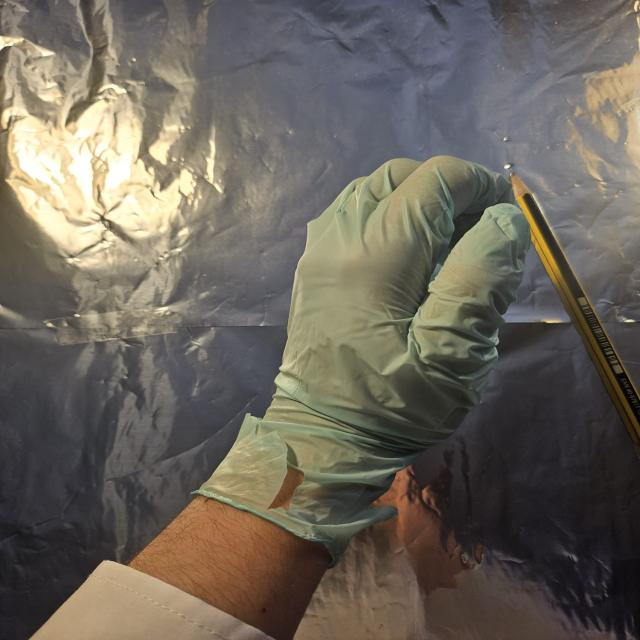gloves_damaged: (190, 156, 532, 556)
